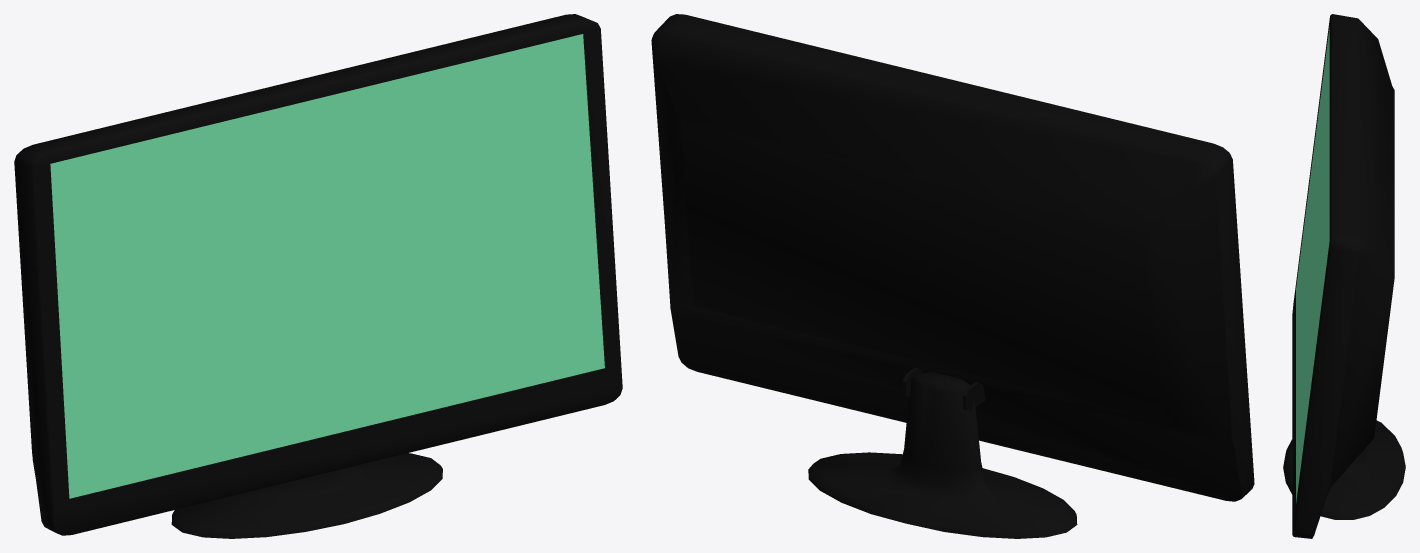
Rendered from monitordraco.gltf.
The picture shows the model from 3 angles, left to right: view 1: azimuth 30°, elevation 25°; view 2: azimuth 150°, elevation 25°; view 3: azimuth 270°, elevation 25°; orthographic projection. The views are drawn at different scales.
Parts seen in each view (by area): view 1: monitorm, monitor; view 2: monitor; view 3: monitor, monitorm.
Part boxes in pixels (x1,y1,x2,y2): monitorm: [50, 34, 604, 498]; monitor: [14, 14, 622, 538]; monitor: [651, 14, 1254, 538]; monitor: [1283, 14, 1405, 538]; monitorm: [1296, 27, 1329, 502].
Bounding box in the file's own units: 2 × 1.4 × 0.4514.
